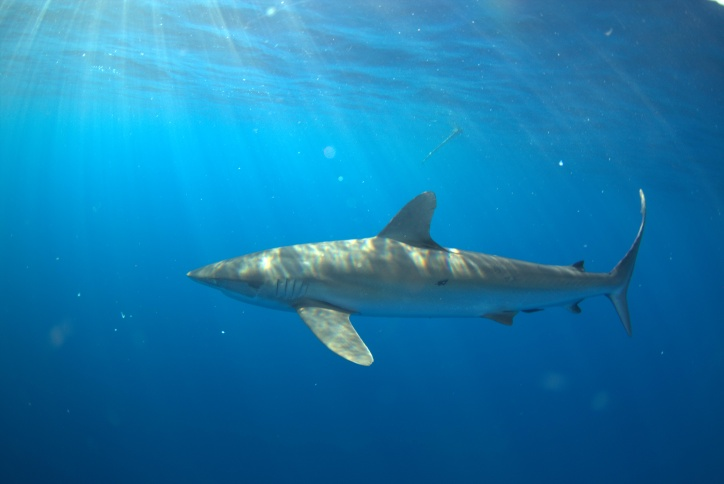Sedoso: (152, 185, 656, 381)
